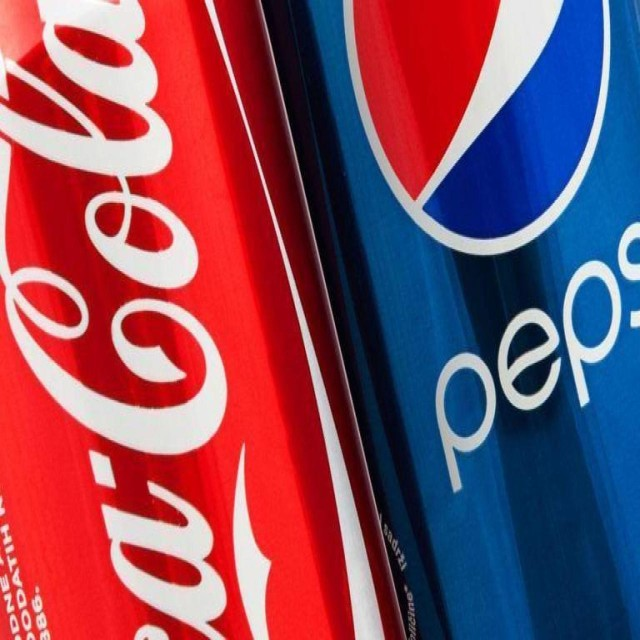pepsi: (345, 0, 620, 258)
